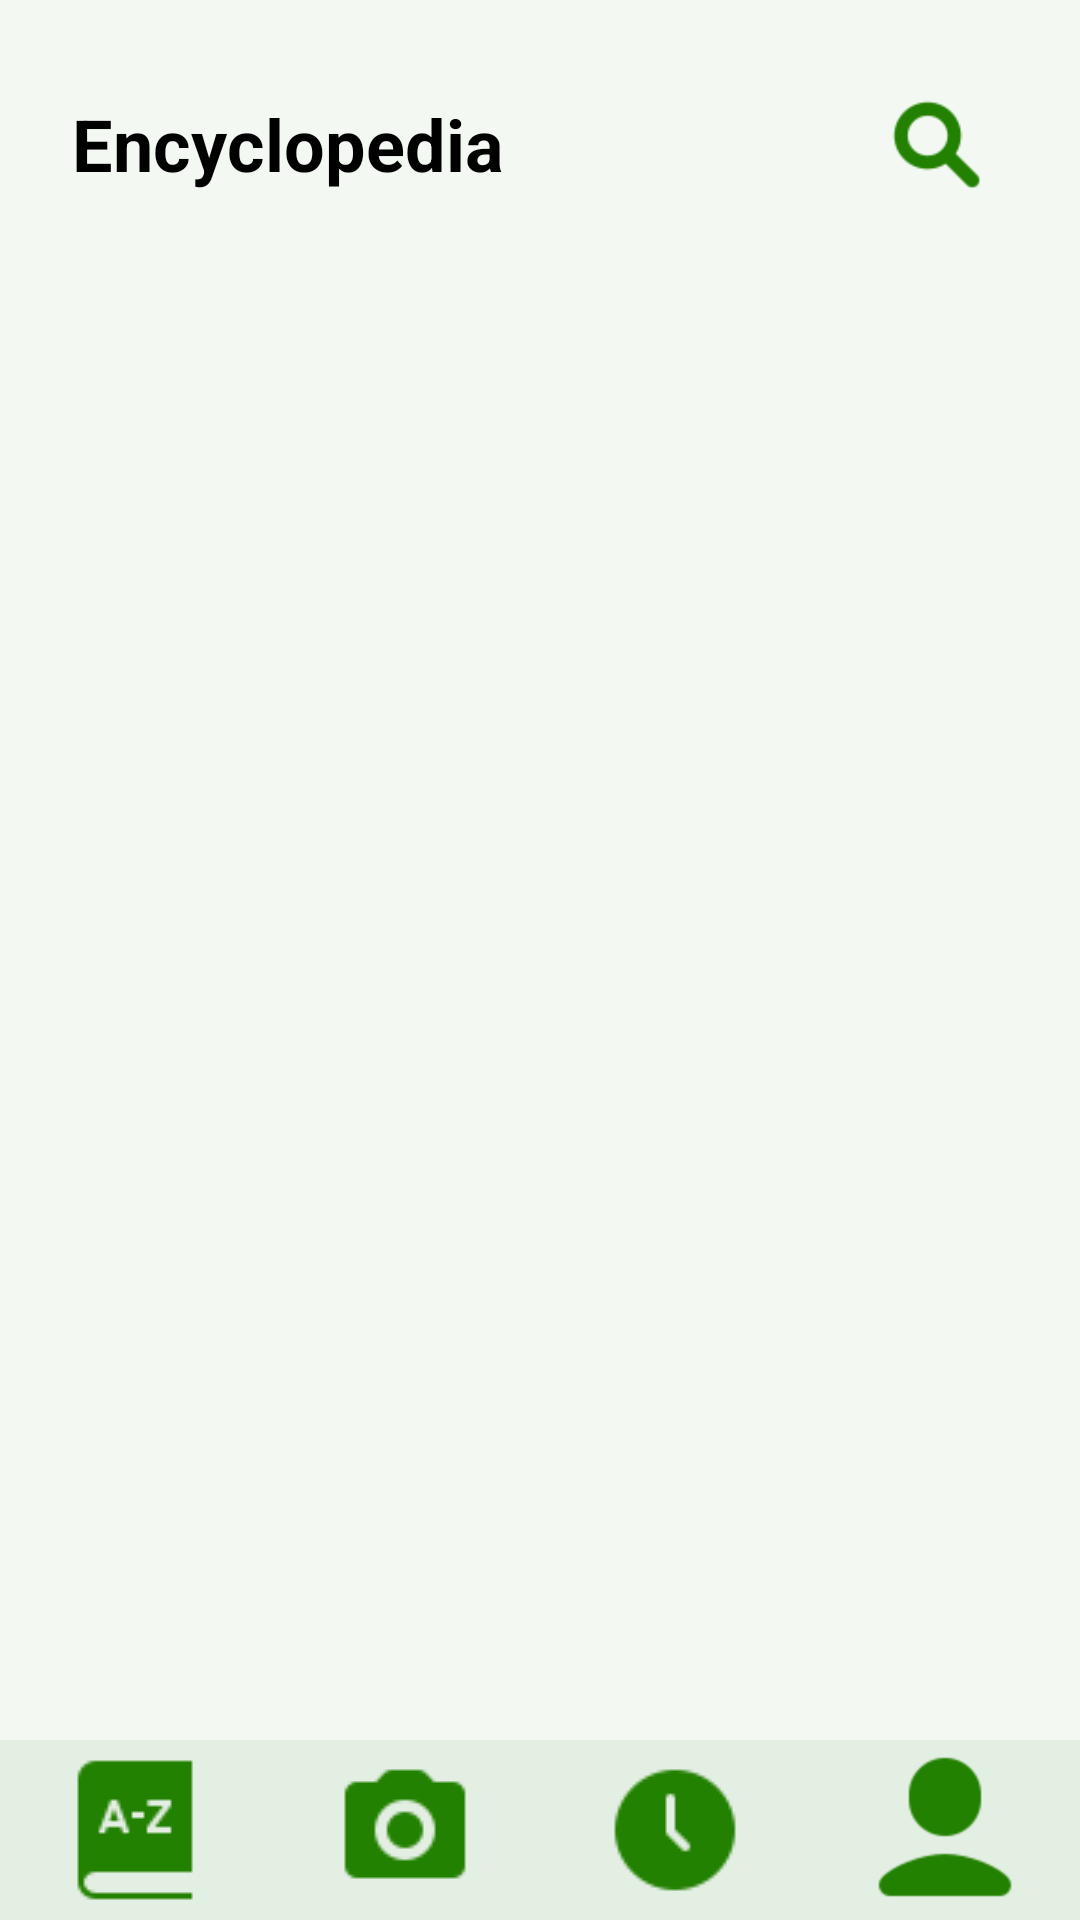

Icons on this 1080w x 1920h Android screen, each with its box as (x1, y1, x2, y2):
Caméra: (344, 1769, 466, 1879)
Compte: (878, 1757, 1012, 1897)
Encyclopédie: (77, 1760, 193, 1900)
Historique: (614, 1769, 736, 1891)
Recherche: (893, 101, 980, 188)
